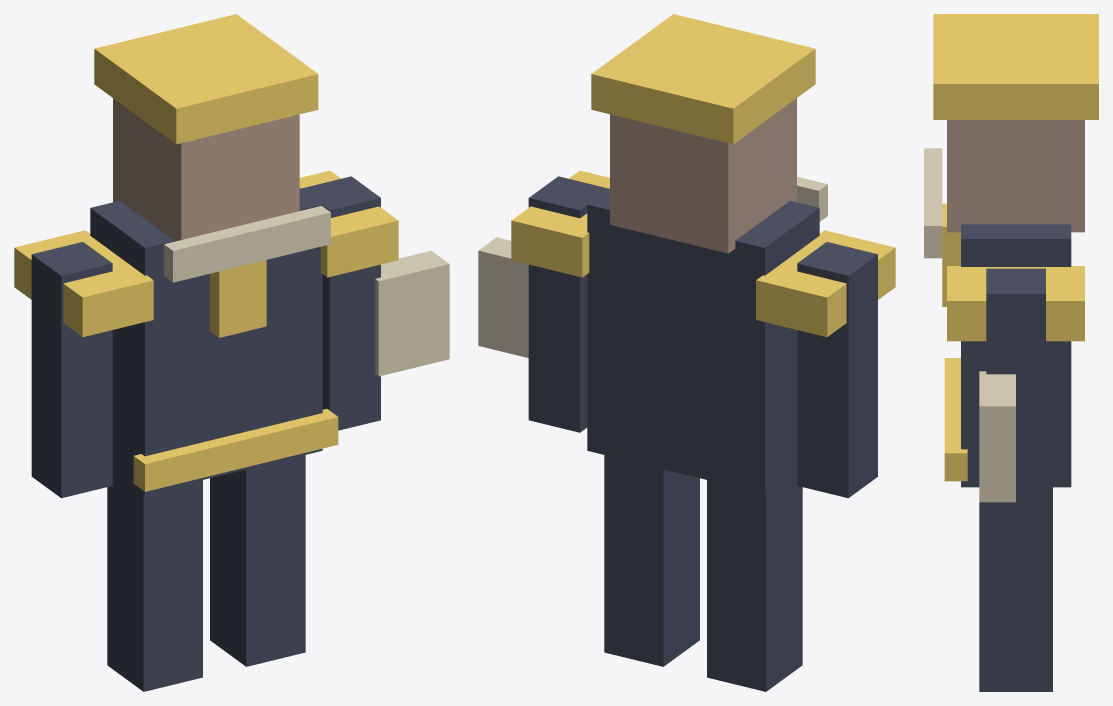
File: 07_thorne_trenchmark_mechanist_at_express.glb
The picture shows the model from 3 angles, left to right: view 1: azimuth 30°, elevation 25°; view 2: azimuth 150°, elevation 25°; view 3: azimuth 270°, elevation 25°; orthographic projection.
Parts seen in each view (by area): view 1: Thorne Trenchmark, Mechanist at Express; view 2: Thorne Trenchmark, Mechanist at Express; view 3: Thorne Trenchmark, Mechanist at Express.
Part boxes in pixels (box(x1,y1,x2,y2)): Thorne Trenchmark, Mechanist at Express: box(14, 14, 449, 691); Thorne Trenchmark, Mechanist at Express: box(478, 14, 895, 691); Thorne Trenchmark, Mechanist at Express: box(924, 14, 1098, 691).
Size of the model in its own units: 1.01 by 1.5 by 0.3938.
